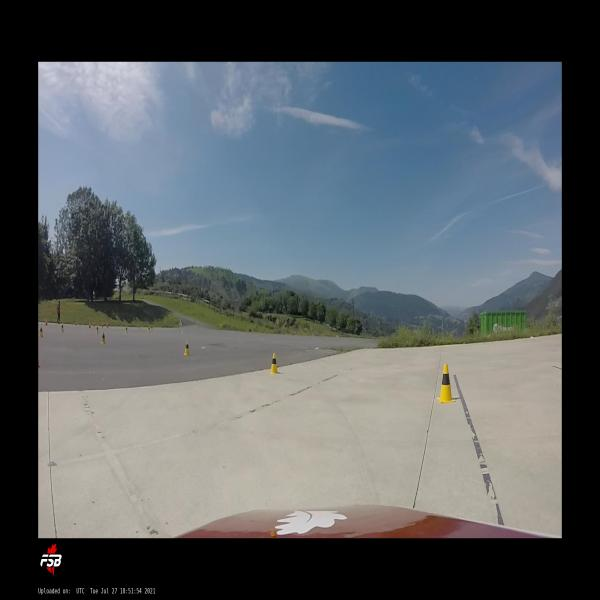orange_cone: (88, 323, 91, 329), (46, 318, 48, 326), (106, 323, 109, 328)
yellow_cone: (437, 364, 456, 403), (270, 352, 278, 373), (183, 340, 190, 356), (39, 326, 44, 338), (101, 332, 106, 344), (61, 323, 64, 333), (95, 326, 98, 334), (125, 326, 128, 333), (147, 326, 150, 332)
